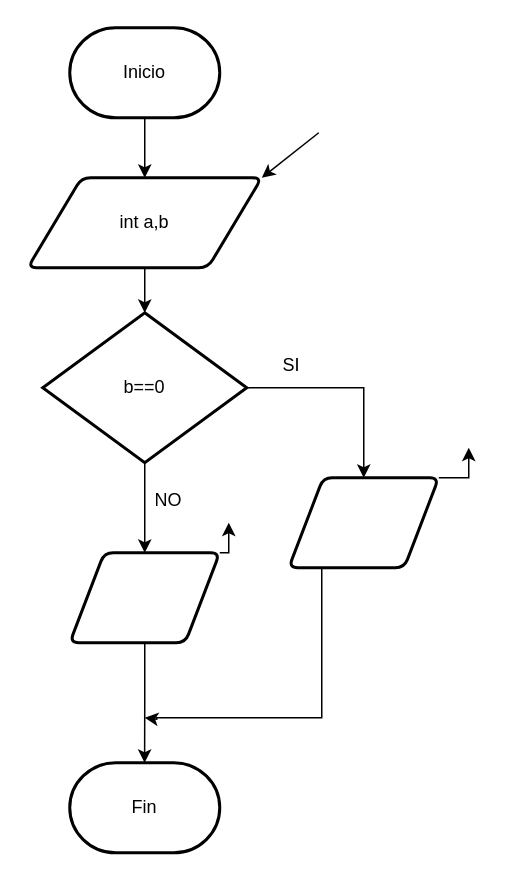
Image size: 507x879. Some labels were removed from this diagram. Each missing label, with the centre of its shape:
"Imposible": point 363,522
a/b: point 144,597
